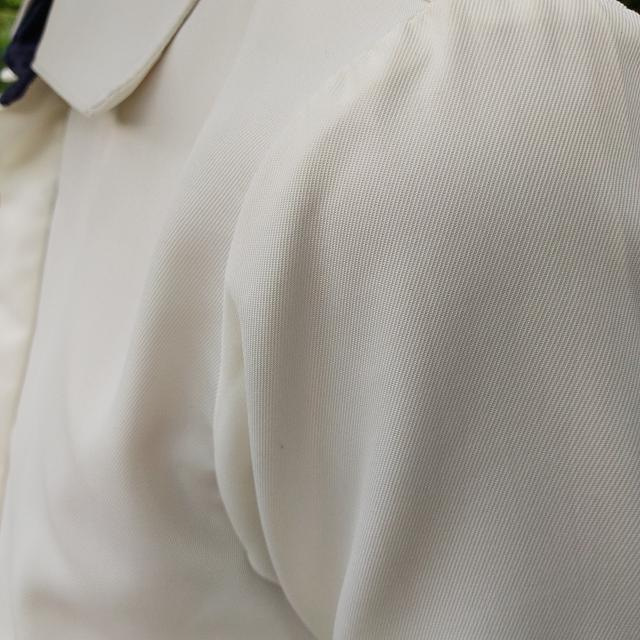education_male_uniform: (6, 0, 640, 612)
